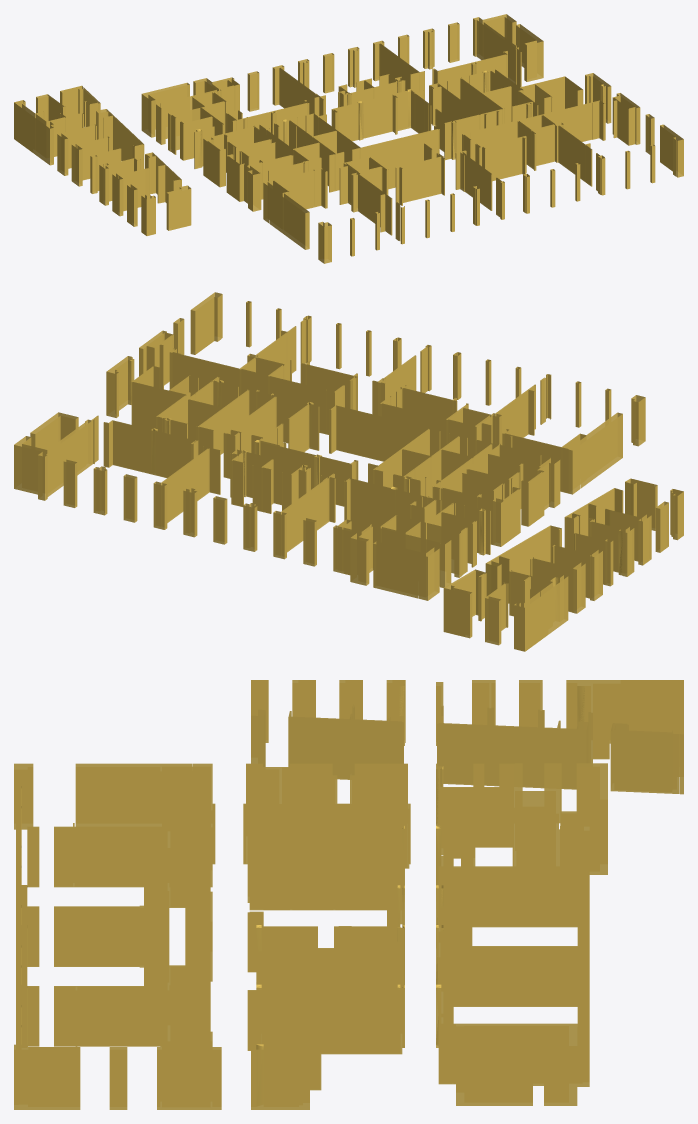
File: ISELF_2ndfloorwalls.obj
3 views of the same model, one above another, from view 1: azimuth 30°, elevation 25°; view 2: azimuth 150°, elevation 25°; view 3: azimuth 270°, elevation 25° (orthographic). The views are drawn at different scales.
Visible parts, largest first — view 1: WALL; view 2: WALL; view 3: WALL.
Boxes of the visible parts, left/top/right/bottom form: WALL: left=14, top=14, right=683, bottom=263; WALL: left=14, top=292, right=683, bottom=651; WALL: left=14, top=680, right=683, bottom=1109.
Size of the model in its own units: 2376 by 180 by 1820.
